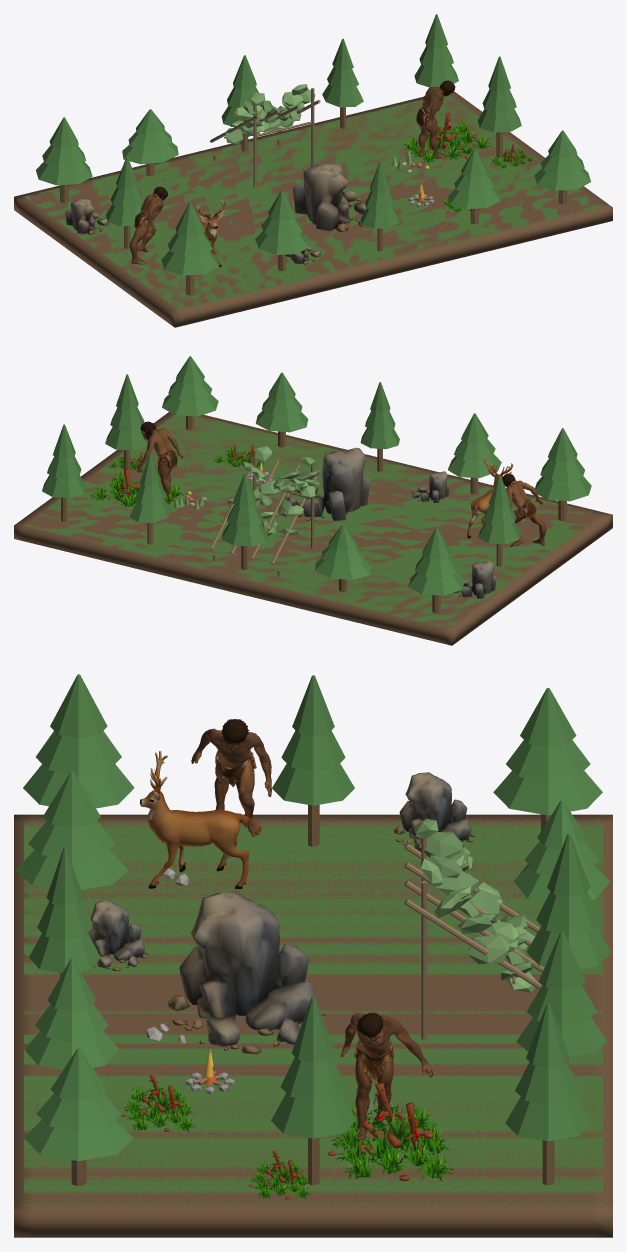
Rendered from berburu_meramu.glb.
3 renders of one model, top to bottom at view 1: azimuth 30°, elevation 25°; view 2: azimuth 150°, elevation 25°; view 3: azimuth 270°, elevation 25°, orthographic. The views are drawn at different scales.
Visible parts, largest first — view 1: Diorama_Soil, Diorama_Floor, Shelter, Batu_Cluster, pohon_11, pohon_17, pohon_2, pohon_extra_0, pohon_5, pohon_extra_2, pohon_extra_3, pohon_8 (+10 smaller); view 2: Diorama_Soil, Diorama_Floor, Shelter, Batu_Cluster, pohon_11, pohon_17, pohon_2, pohon_extra_4, pohon_extra_0, pohon_8, pohon_extra_3, pohon_extra_2 (+11 smaller); view 3: Diorama_Floor, Diorama_Soil, Batu_Cluster, Shelter, pohon_17, pohon_11, pohon_2, pohon_5, pohon_8, pohon_extra_0, pohon_14, Semak_Cluster (+12 smaller).
Boxes of the visible parts, x1=… form: Diorama_Soil: x1=14, y1=91, x2=612, y2=327; Diorama_Floor: x1=24, y1=95, x2=602, y2=310; Shelter: x1=210, y1=84, x2=320, y2=187; Batu_Cluster: x1=292, y1=162, x2=366, y2=232; pohon_11: x1=161, y1=202, x2=218, y2=295; pohon_17: x1=36, y1=117, x2=92, y2=202; pohon_2: x1=534, y1=130, x2=590, y2=204; pohon_extra_0: x1=255, y1=190, x2=308, y2=271; pohon_5: x1=477, y1=56, x2=521, y2=157; pohon_extra_2: x1=448, y1=149, x2=500, y2=224; pohon_extra_3: x1=122, y1=109, x2=178, y2=176; pohon_8: x1=414, y1=14, x2=458, y2=111; Diorama_Soil: x1=14, y1=412, x2=612, y2=645; Diorama_Floor: x1=24, y1=415, x2=587, y2=626; Shelter: x1=210, y1=446, x2=320, y2=576; Batu_Cluster: x1=284, y1=447, x2=369, y2=520; pohon_11: x1=535, y1=428, x2=591, y2=520; pohon_17: x1=408, y1=527, x2=464, y2=613; pohon_2: x1=162, y1=356, x2=218, y2=430; pohon_extra_4: x1=221, y1=473, x2=267, y2=569; pohon_extra_0: x1=448, y1=413, x2=501, y2=493; pohon_8: x1=42, y1=424, x2=86, y2=521; pohon_extra_3: x1=315, y1=525, x2=371, y2=591; pohon_extra_2: x1=255, y1=372, x2=308, y2=447; Diorama_Floor: x1=24, y1=821, x2=602, y2=1205; Diorama_Soil: x1=14, y1=814, x2=612, y2=1237; Batu_Cluster: x1=168, y1=891, x2=326, y2=1054; Shelter: x1=404, y1=818, x2=544, y2=1039; pohon_17: x1=493, y1=688, x2=602, y2=830; pohon_11: x1=23, y1=674, x2=134, y2=808; pohon_2: x1=24, y1=1048, x2=133, y2=1185; pohon_5: x1=271, y1=996, x2=355, y2=1185; pohon_8: x1=505, y1=1003, x2=590, y2=1185; pohon_extra_0: x1=15, y1=771, x2=128, y2=889; pohon_14: x1=272, y1=675, x2=354, y2=846; Semak_Cluster: x1=327, y1=1083, x2=453, y2=1181.
Size of the model in its own units: 6.82 by 1.69 by 4.34.
Materials: 22 (5 with a texture image).
